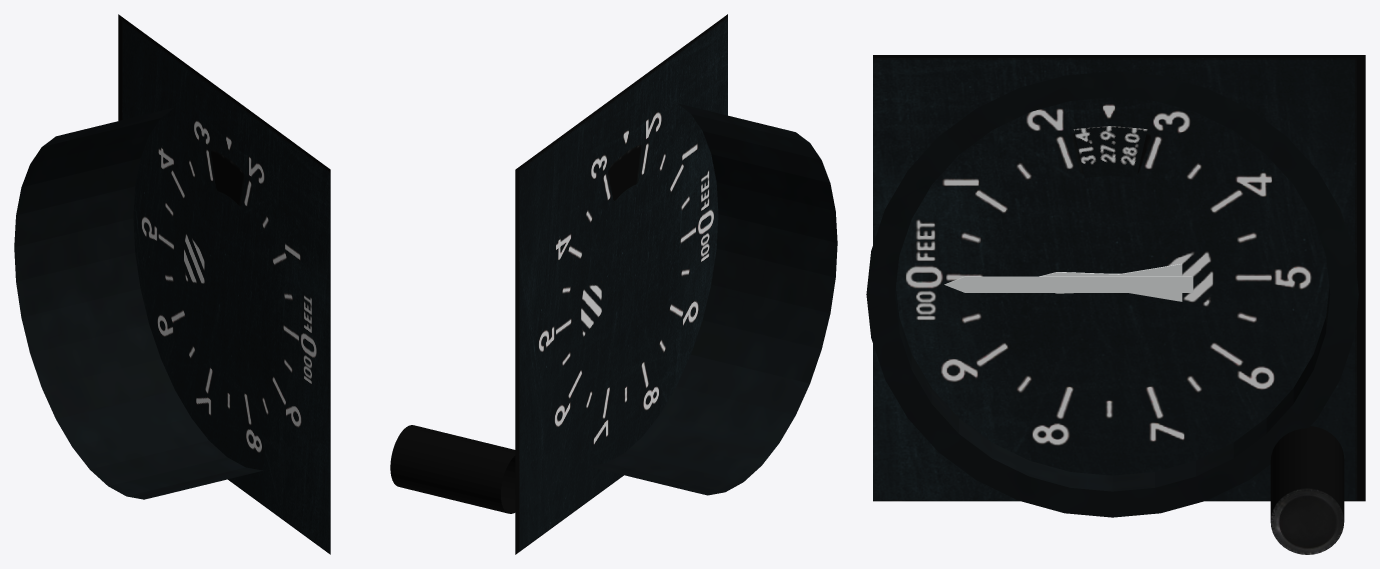
The model's file is alt-fg1000.gltf.
The picture shows the model from 3 angles, left to right: view 1: azimuth 30°, elevation 25°; view 2: azimuth 150°, elevation 25°; view 3: azimuth 270°, elevation 25°; orthographic projection. The views are drawn at different scales.
Visible parts, largest first — view 1: Face, Case; view 2: Face, Case, disk; view 3: Face, Case, disk, Needle100, inhg, Needle1000.
Part boxes in pixels (left/top/right/bottom): Face: left=118, top=14, right=330, bottom=554; Case: left=14, top=107, right=262, bottom=499; Face: left=515, top=14, right=727, bottom=554; Case: left=588, top=103, right=837, bottom=495; disk: left=390, top=425, right=515, bottom=513; Face: left=873, top=55, right=1365, bottom=501; Case: left=866, top=71, right=1358, bottom=517; disk: left=1270, top=426, right=1344, bottom=554; Needle100: left=944, top=276, right=1193, bottom=292; inhg: left=1073, top=126, right=1147, bottom=177; Needle1000: left=1039, top=263, right=1182, bottom=301.
Bounding box in the file's own units: 0.0493 × 0.0718 × 0.0726.
4 materials, 4 textured.
